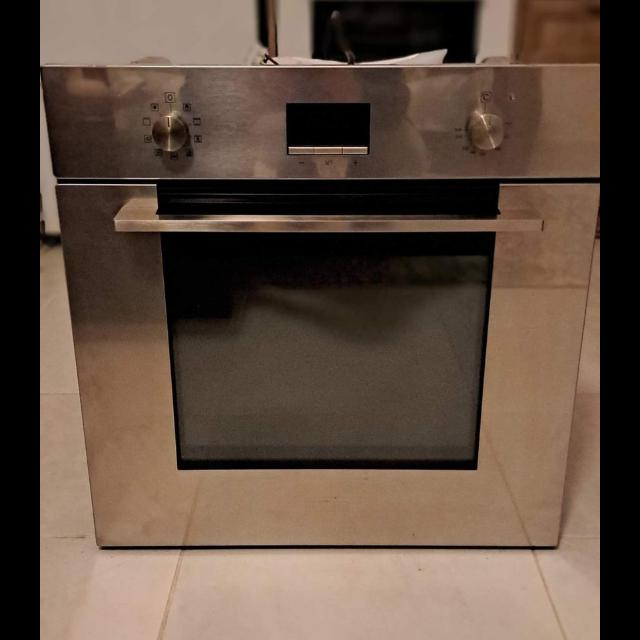Oven: (42, 67, 600, 545)
